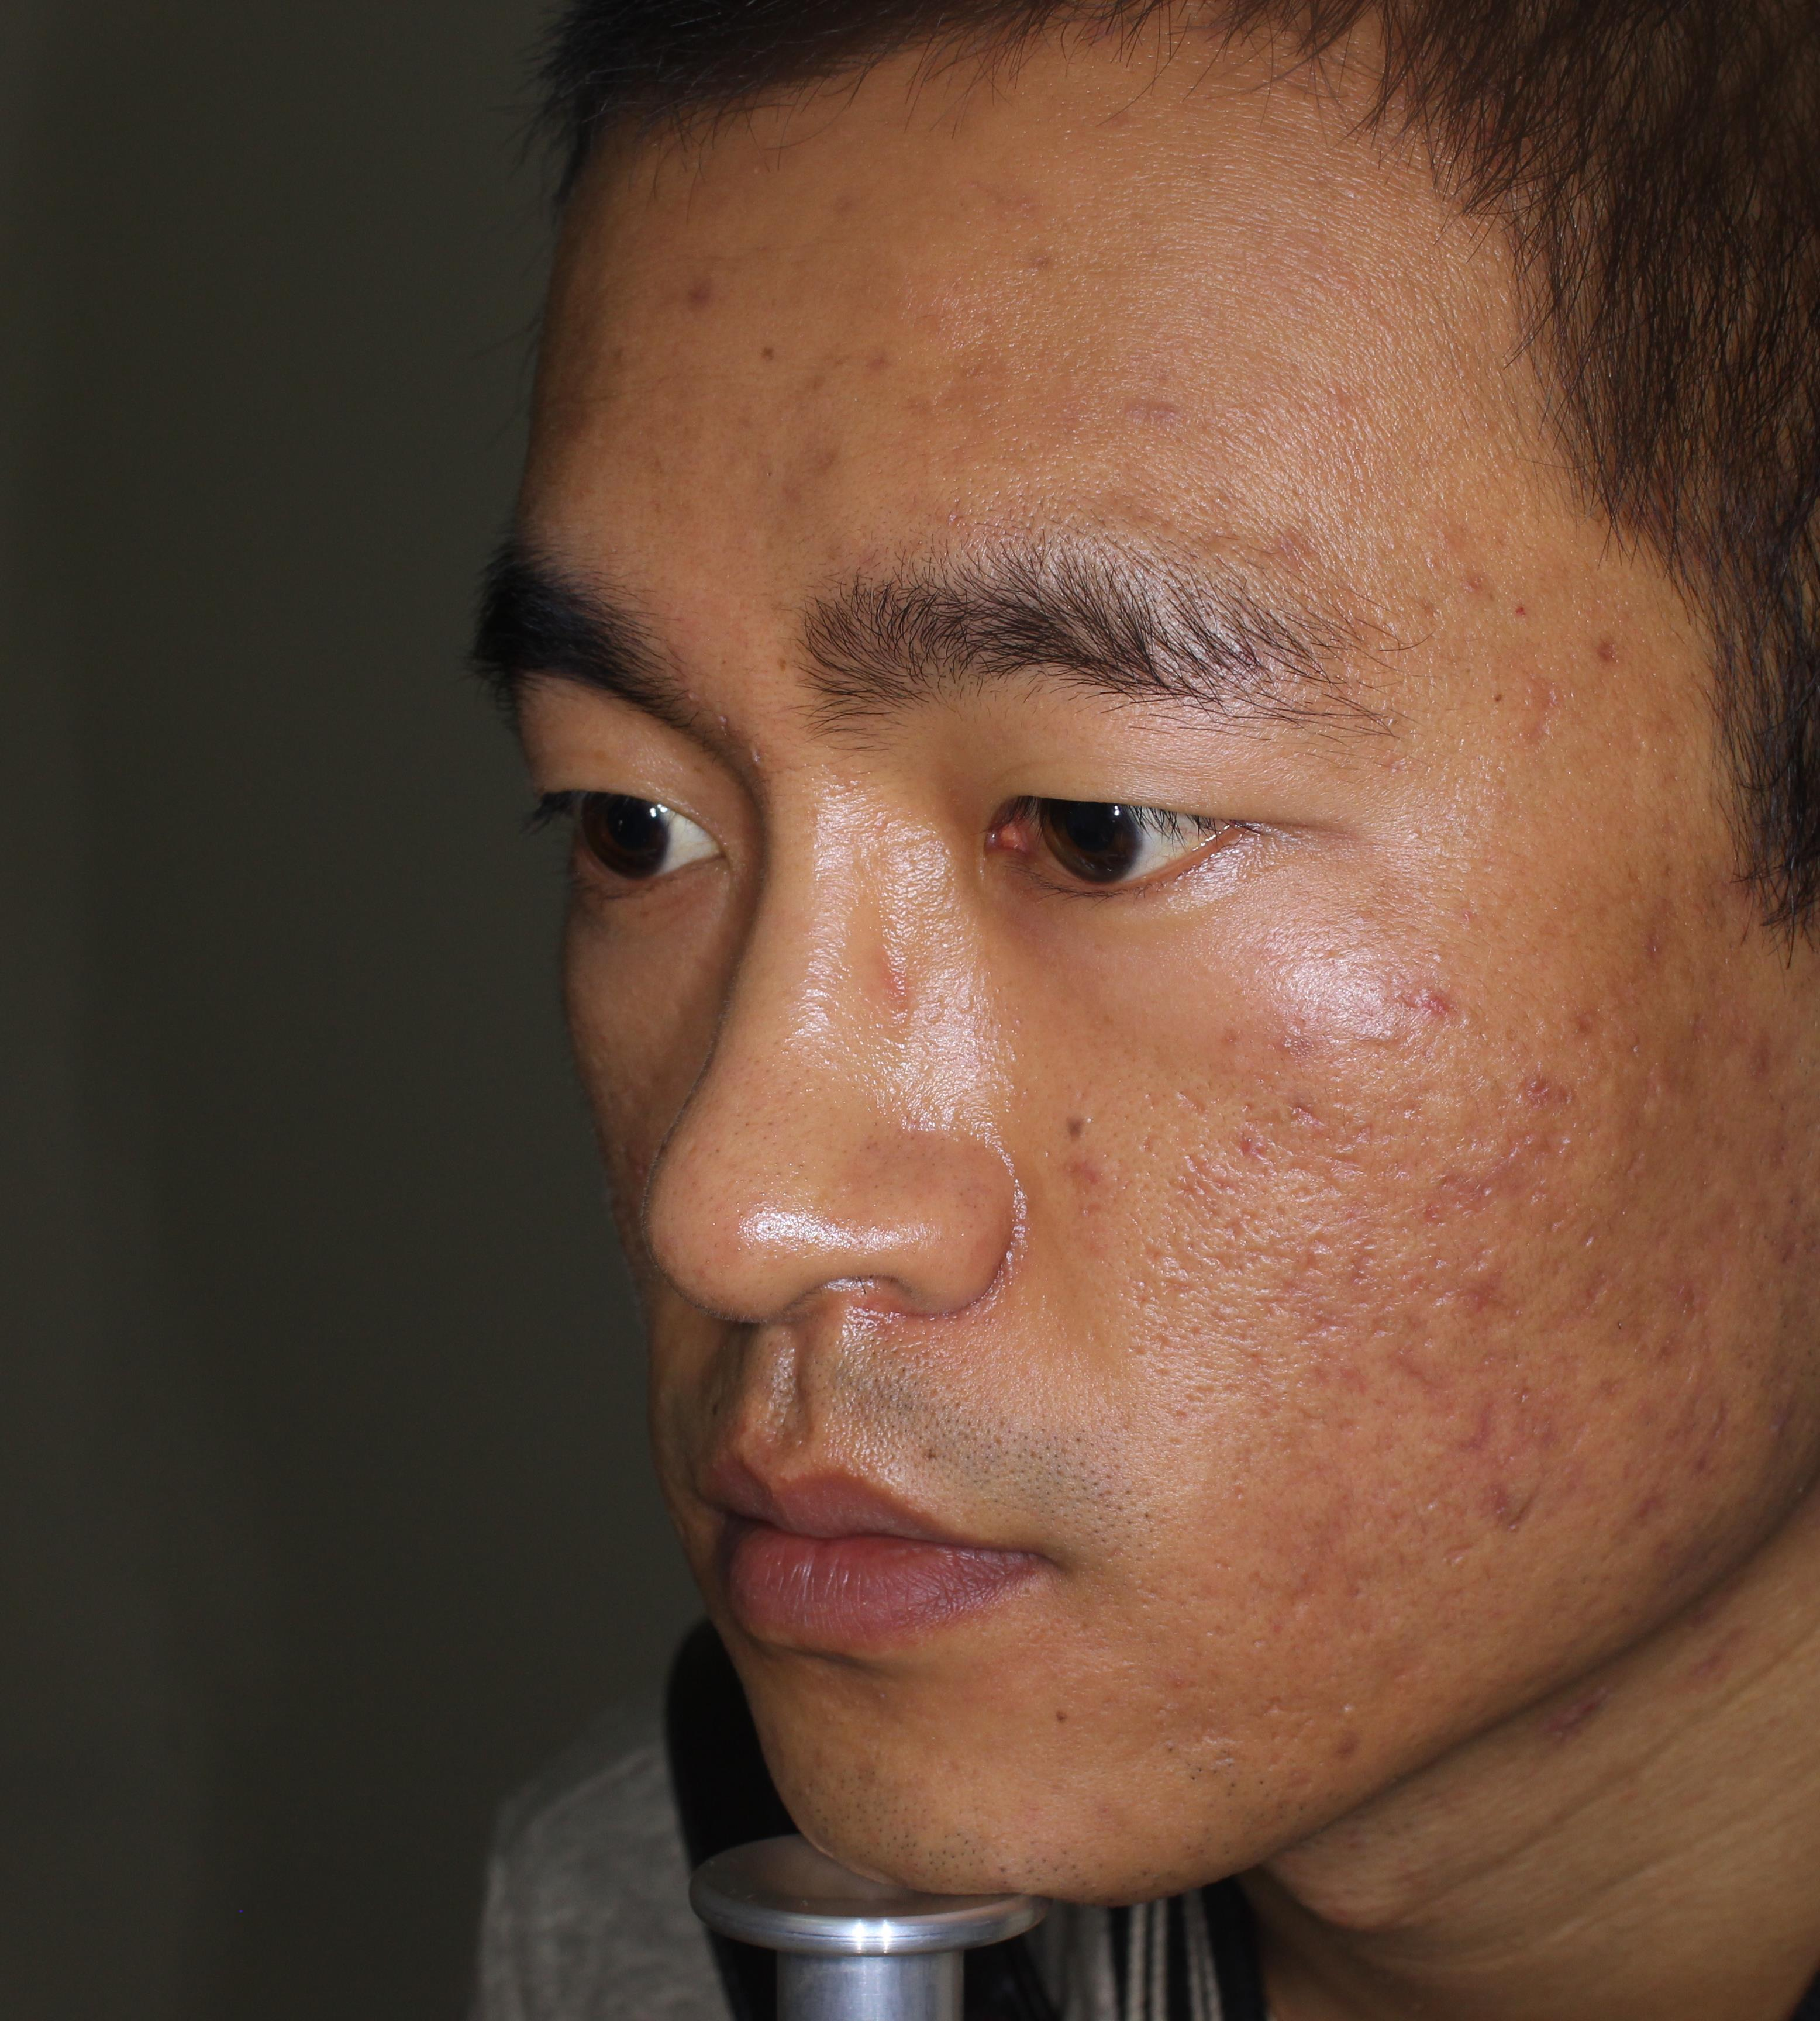fore: (1499, 1038, 1609, 1168), (1426, 1396, 1516, 1473), (1467, 1482, 1548, 1557), (1028, 1136, 1161, 1182), (1606, 1473, 1690, 1540), (1453, 1254, 1502, 1306)
